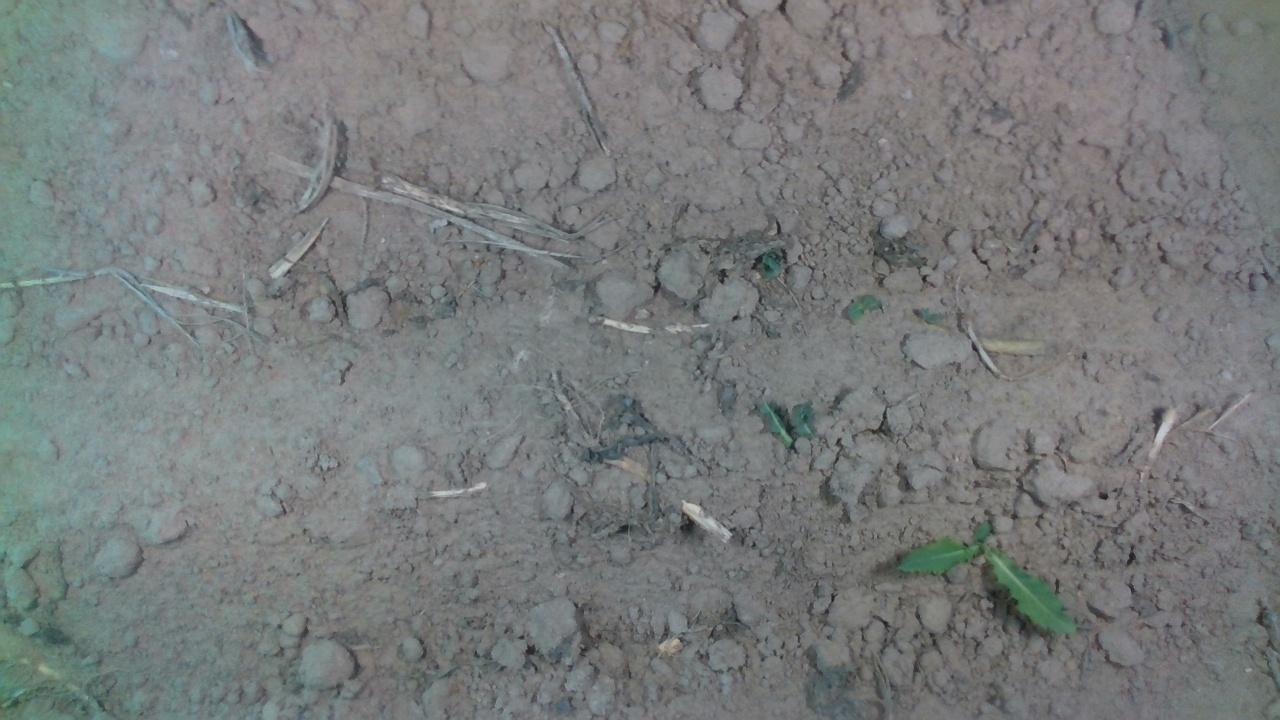weed: (894, 514, 1076, 636)
